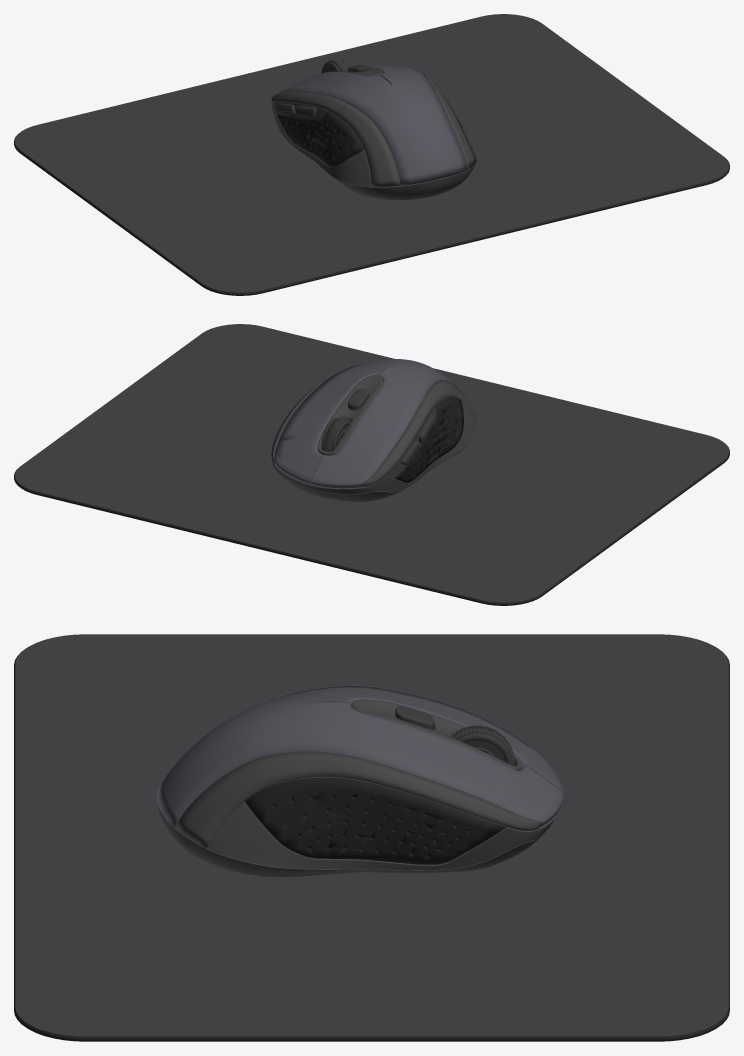
File: sr_computer_mouse_office_b01.glb
3 views of the same model, one above another, from view 1: azimuth 30°, elevation 25°; view 2: azimuth 150°, elevation 25°; view 3: azimuth 270°, elevation 25° (orthographic). The views are drawn at different scales.
Visible parts, largest first — view 1: opaque__rubber__glossy_a_8, opaque__plastic__glossy_blue_a_3, opaque__plastic__glossy_grey_a_2, opaque__fabric__glossy_black_a_7, opaque__rubber__rough_a_6, sm_button1_b01_mesh_00_1; view 2: opaque__rubber__glossy_a_8, opaque__plastic__glossy_blue_a_3, opaque__plastic__glossy_grey_a_2, opaque__fabric__glossy_black_a_7, opaque__rubber__rough_a_6, sm_button1_b01_mesh_00_1; view 3: opaque__rubber__glossy_a_8, opaque__plastic__glossy_blue_a_3, opaque__plastic__glossy_grey_a_2, opaque__rubber__rough_a_6, opaque__fabric__glossy_black_a_7, sm_button1_b01_mesh_00_1.
Part boxes in pixels (left/top/right/bottom): opaque__rubber__glossy_a_8: left=15, top=14, right=728, bottom=292; opaque__plastic__glossy_blue_a_3: left=278, top=65, right=467, bottom=185; opaque__plastic__glossy_grey_a_2: left=271, top=65, right=477, bottom=200; opaque__fabric__glossy_black_a_7: left=14, top=134, right=729, bottom=295; opaque__rubber__rough_a_6: left=276, top=101, right=462, bottom=166; sm_button1_b01_mesh_00_1: left=276, top=58, right=368, bottom=117; opaque__rubber__glossy_a_8: left=15, top=324, right=728, bottom=602; opaque__plastic__glossy_blue_a_3: left=274, top=359, right=452, bottom=487; opaque__plastic__glossy_grey_a_2: left=271, top=363, right=477, bottom=501; opaque__fabric__glossy_black_a_7: left=14, top=444, right=729, bottom=605; opaque__rubber__rough_a_6: left=394, top=397, right=463, bottom=483; sm_button1_b01_mesh_00_1: left=321, top=388, right=433, bottom=465; opaque__rubber__glossy_a_8: left=15, top=634, right=728, bottom=1036; opaque__plastic__glossy_blue_a_3: left=157, top=686, right=563, bottom=827; opaque__plastic__glossy_grey_a_2: left=158, top=685, right=559, bottom=876; opaque__rubber__rough_a_6: left=245, top=777, right=505, bottom=864; opaque__fabric__glossy_black_a_7: left=14, top=651, right=729, bottom=1041; sm_button1_b01_mesh_00_1: left=395, top=706, right=513, bottom=765.
Size of the model in its own units: 0.254 by 0.0408 by 0.1906.
Materials: 6 (1 with a texture image).
